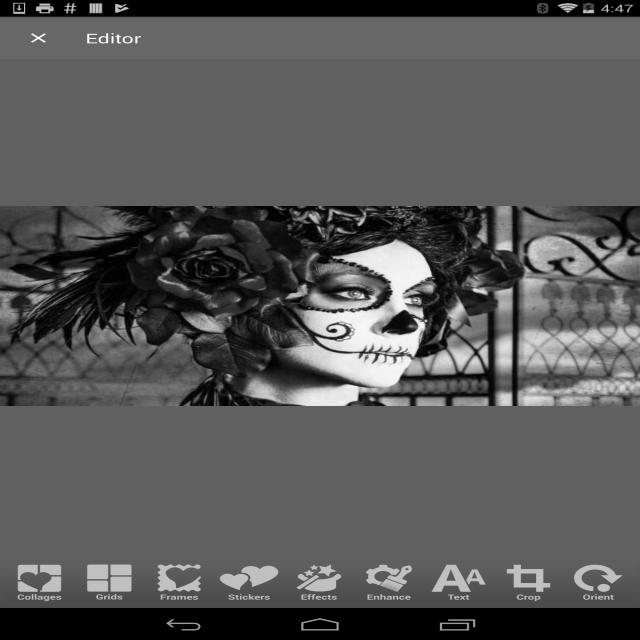ImageButton: (9, 17, 68, 59)
ImageView: (4, 563, 74, 601), (74, 563, 144, 601), (144, 563, 214, 601), (214, 563, 284, 601), (284, 563, 354, 601), (354, 563, 424, 601), (424, 563, 494, 601), (494, 563, 564, 601), (563, 563, 633, 601)
TextView: (85, 29, 142, 47)
